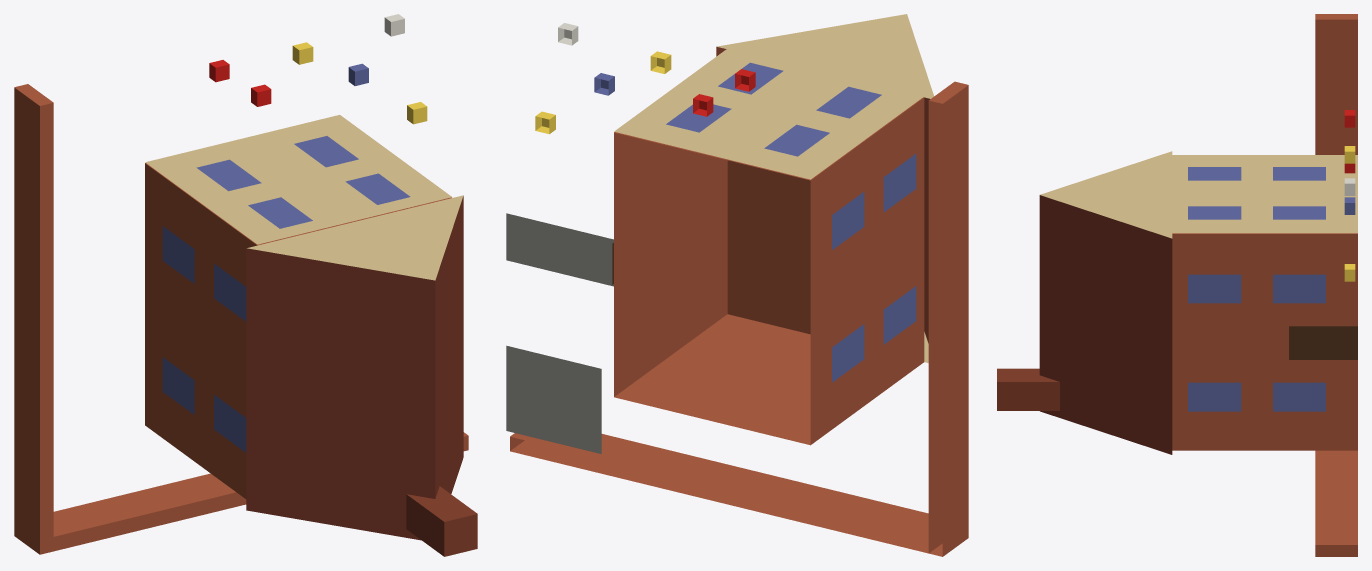
File: complete.glb
The picture shows the model from 3 angles, left to right: view 1: azimuth 30°, elevation 25°; view 2: azimuth 150°, elevation 25°; view 3: azimuth 270°, elevation 25°; orthographic projection. The views are drawn at different scales.
Visible parts, largest first — view 1: done; view 2: done; view 3: done.
Part boxes in pixels (box(x1,y1,x2,y2)): done: box(14, 14, 477, 556); done: box(506, 14, 968, 556); done: box(997, 14, 1357, 556).
Size of the model in its own units: 15.6 by 15.4 by 13.6.
